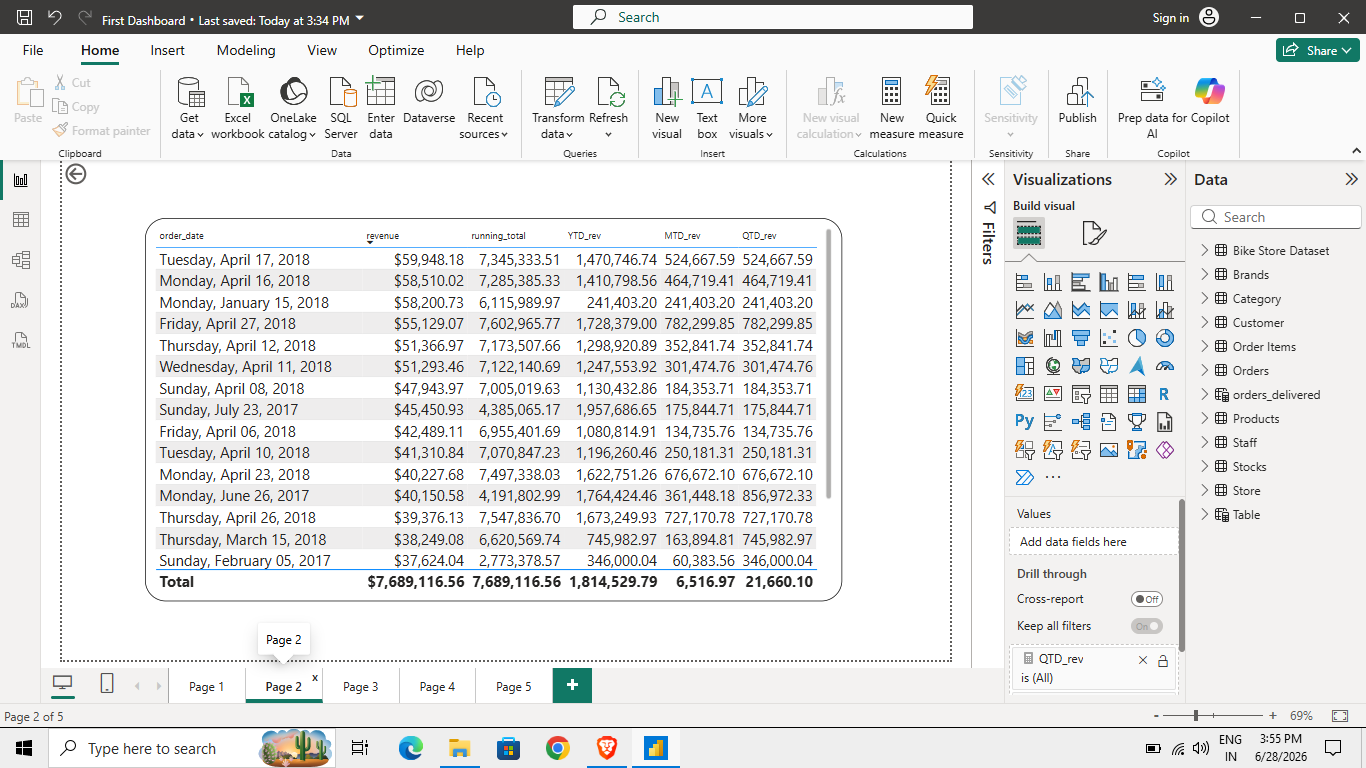

What the dashboard file says about the page in this screenshot:
{"tool":"powerbi","page":{"name":"Page 2","canvas":[1280,720],"ordinal":1},"visuals":[{"type":"tableEx","fields":{"Values":["Orders.order_date","Table.revenue","Bike Store Dataset.running_total","Table.YTD_rev","Table.MTD_rev","Table.QTD_rev"]},"box":[119.5,83.5,1003.7,551.5],"z":0},{"type":"actionButton","box":[0,0,100,40],"z":1000}]}

Visuals, with their boxes on the page's 1280x720 design canvas (x1, y1, x2, y2). These are canvas units, not pixel positions in the 1366x768 screenshot, which may show the page scaled, cropped or inside an application window:
tableEx - Orders.order_date x Table.revenue: 120 84 1123 635
actionButton: 0 0 100 40
